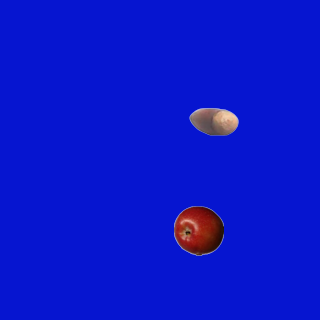Apple Braeburn: (173, 205, 223, 255)
Hazelnut: (188, 96, 238, 146)
